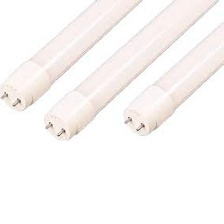light_bulb: (38, 0, 224, 143), (0, 0, 148, 112), (122, 9, 224, 140)
